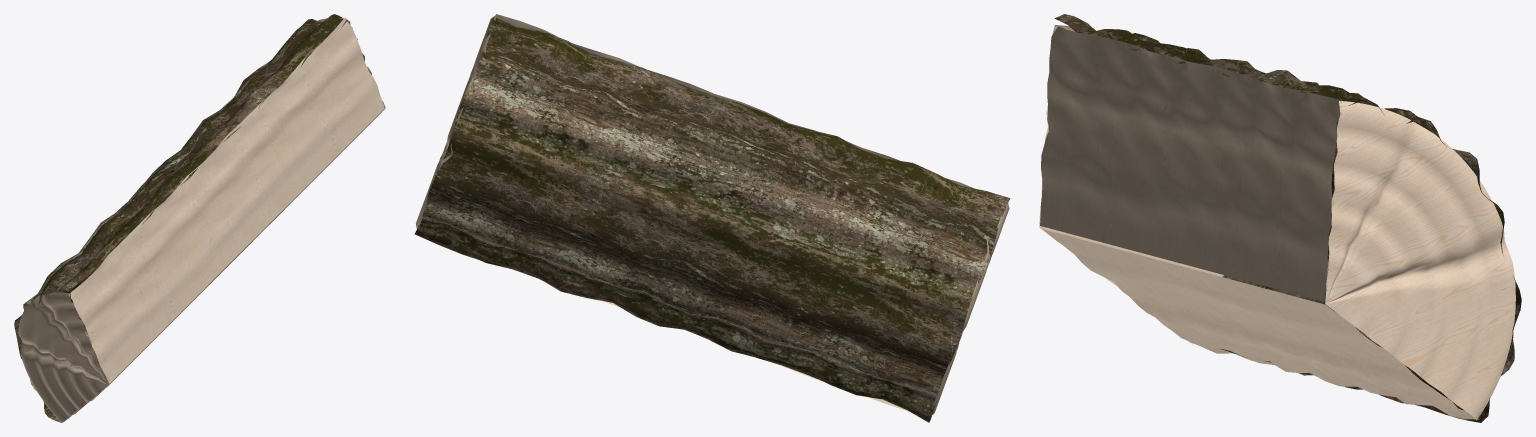
Rendered from roble_seco_v003_candidate.glb.
The picture shows the model from 3 angles, left to right: view 1: azimuth 30°, elevation 25°; view 2: azimuth 150°, elevation 25°; view 3: azimuth 270°, elevation 25°; orthographic projection. The views are drawn at different scales.
Parts seen in each view (by area): view 1: Split seasoned roble - continuous bark / fibre / endgrain; view 2: Split seasoned roble - continuous bark / fibre / endgrain; view 3: Split seasoned roble - continuous bark / fibre / endgrain.
Boxes of the visible parts, box(x1,y1,x2,y2) form: Split seasoned roble - continuous bark / fibre / endgrain: box(14, 14, 385, 422); Split seasoned roble - continuous bark / fibre / endgrain: box(414, 14, 1010, 422); Split seasoned roble - continuous bark / fibre / endgrain: box(1039, 14, 1521, 422).
Bounding box in the file's own units: 0.4622 × 0.3227 × 0.2675.
2 materials, 2 textured.
